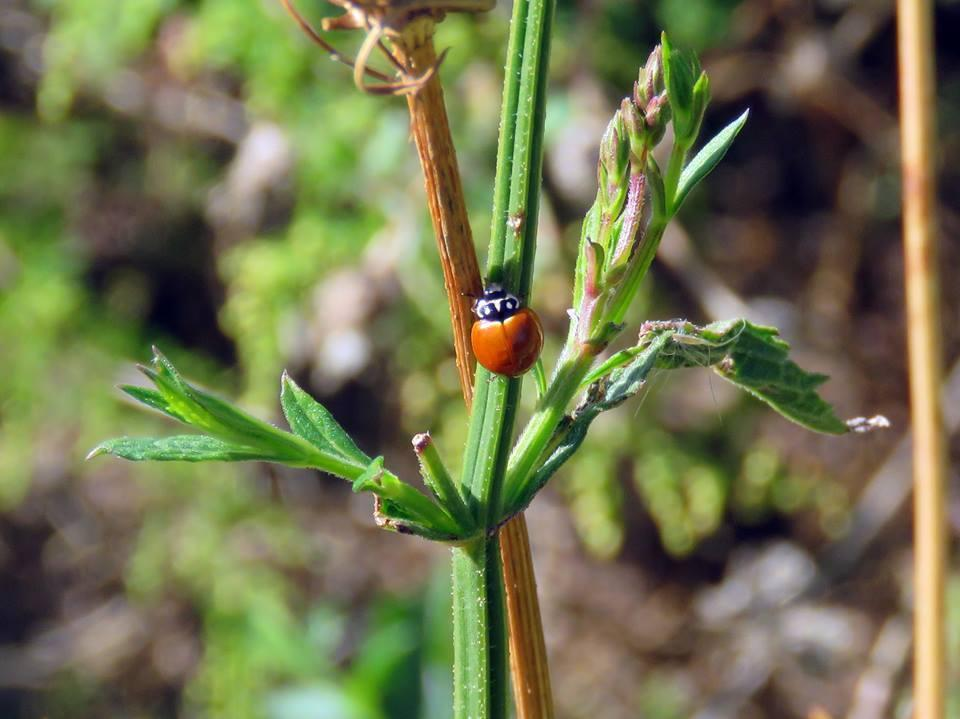ladybug: (460, 276, 550, 381)
